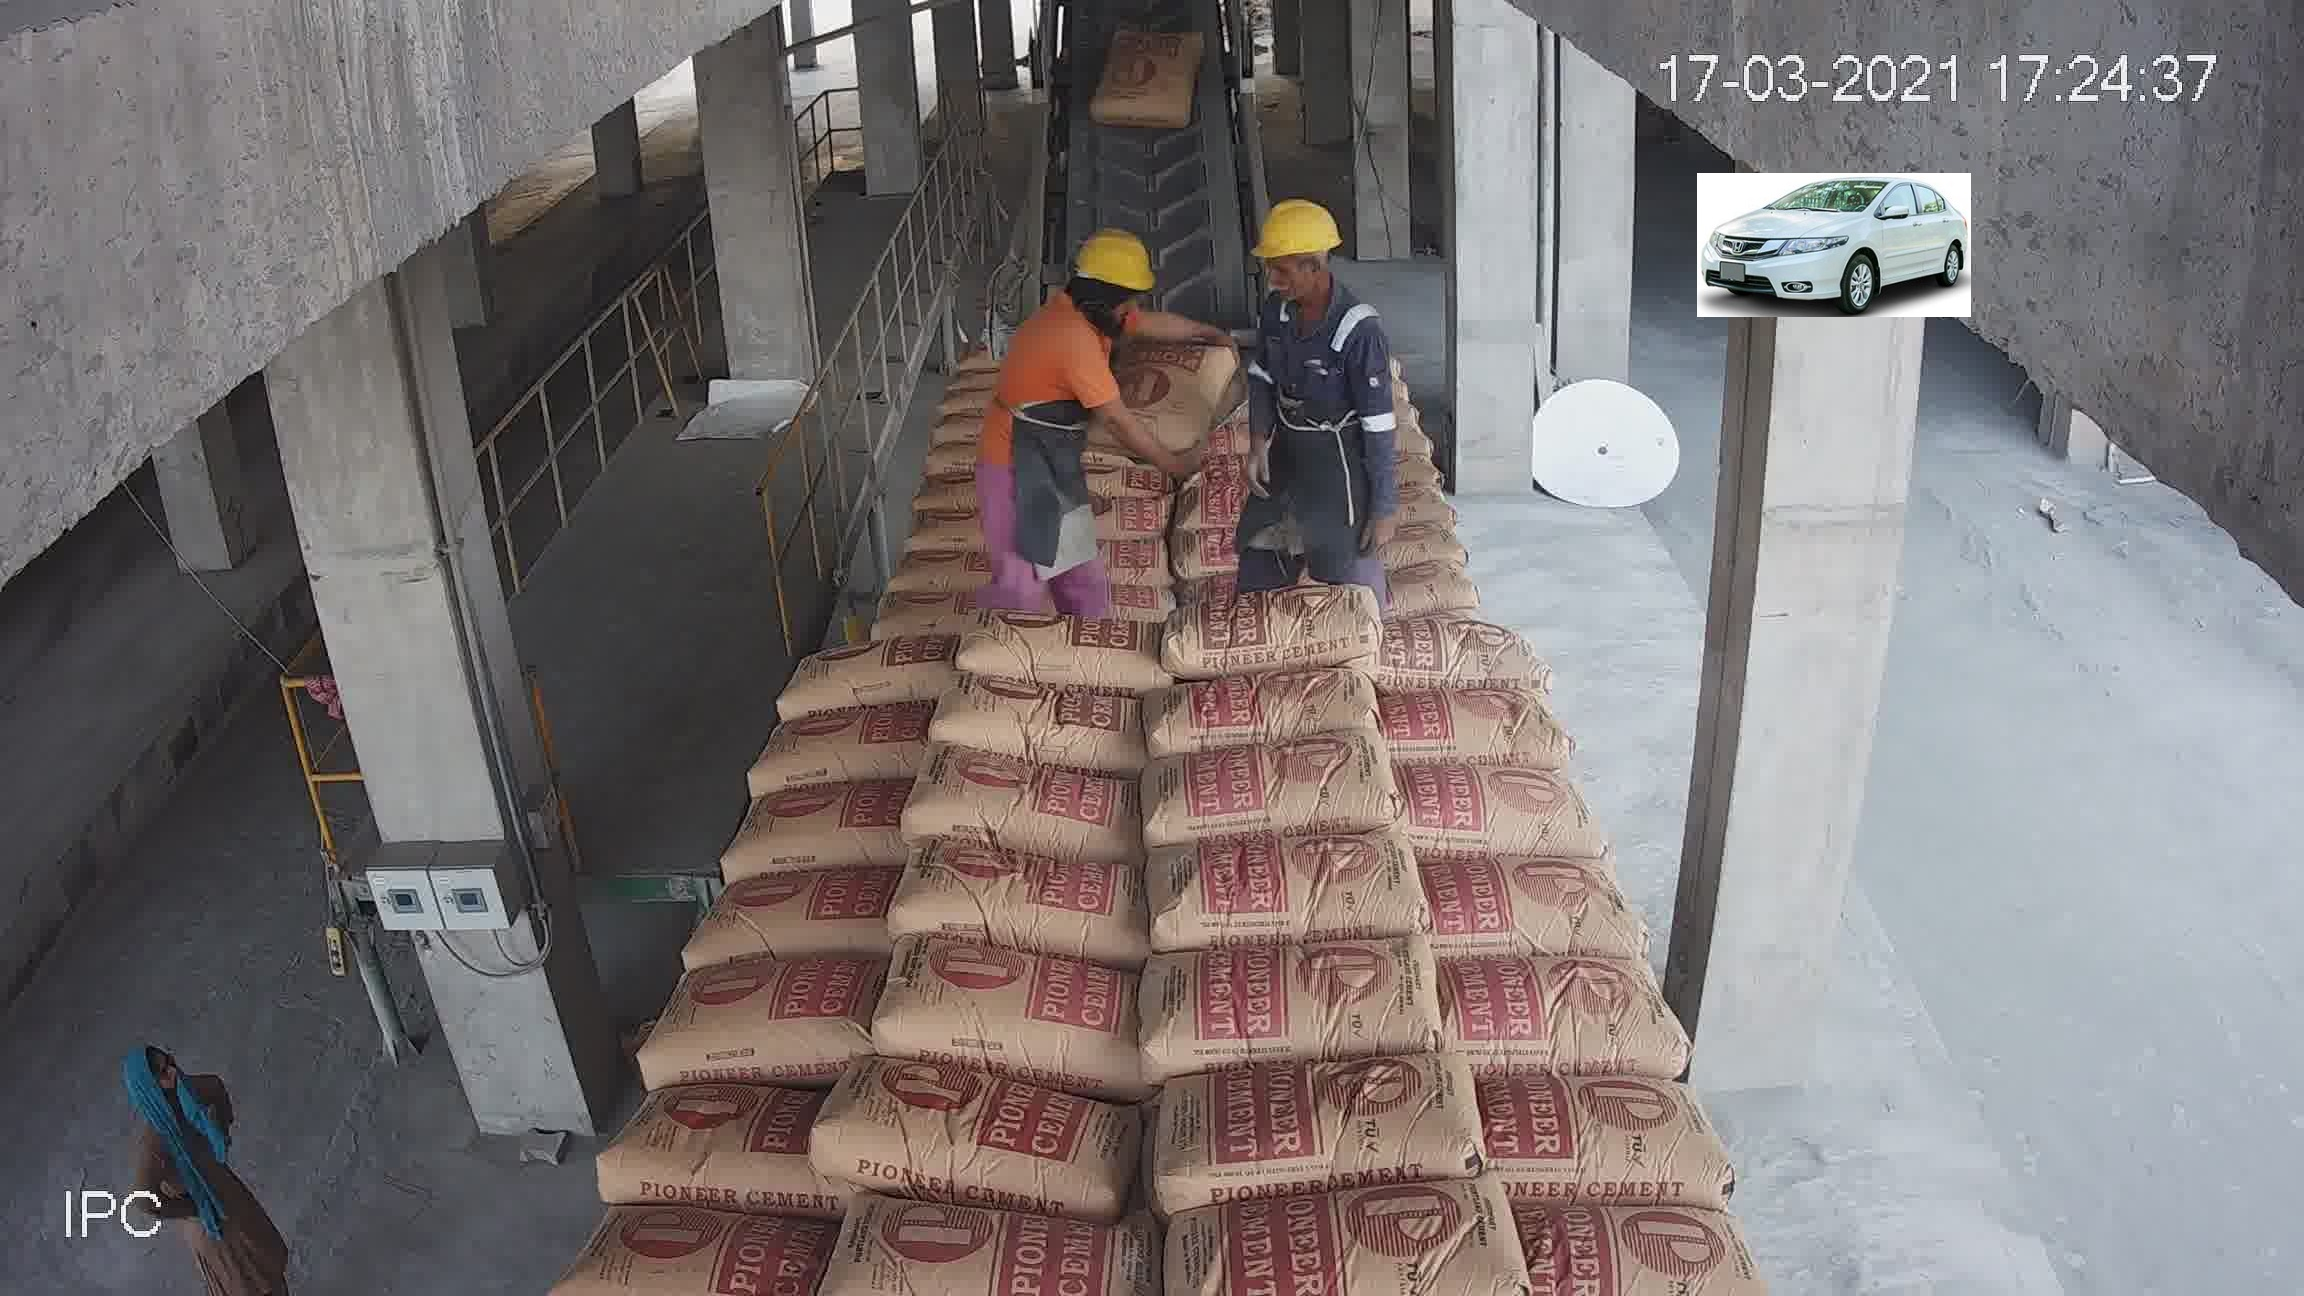bag: (1111, 51, 1199, 150)
bag_h: (1103, 1147, 1533, 1296), (1131, 1063, 1461, 1223), (801, 1185, 1152, 1296), (861, 843, 1147, 975), (1150, 942, 1442, 1068), (817, 1082, 1124, 1199), (897, 937, 1127, 1092), (1169, 821, 1419, 954), (620, 957, 885, 1081), (1446, 937, 1665, 1071), (1491, 1065, 1715, 1195), (584, 1089, 798, 1223), (530, 1204, 831, 1293), (1124, 733, 1372, 839), (1525, 1188, 1761, 1296), (864, 767, 1146, 855), (1412, 855, 1635, 959), (1139, 574, 1381, 669), (923, 658, 1125, 769), (1158, 668, 1393, 756), (945, 589, 1152, 687), (711, 767, 902, 873), (1378, 761, 1601, 851), (1139, 519, 1358, 604), (752, 696, 934, 793), (695, 875, 885, 954), (1374, 688, 1563, 764), (790, 623, 937, 714), (1131, 451, 1347, 511), (1324, 514, 1527, 576), (935, 551, 1157, 603), (1353, 555, 1522, 623), (1173, 400, 1336, 468), (824, 521, 975, 592), (1348, 623, 1541, 679), (1324, 465, 1492, 529), (987, 472, 1166, 529), (967, 508, 1158, 559), (804, 578, 965, 631), (1154, 497, 1336, 541), (1022, 424, 1150, 484), (1339, 426, 1468, 475), (855, 484, 972, 536), (856, 446, 987, 489), (926, 394, 1032, 443), (957, 362, 1040, 407), (953, 332, 1046, 370)
belt: (1040, 9, 1249, 275)
